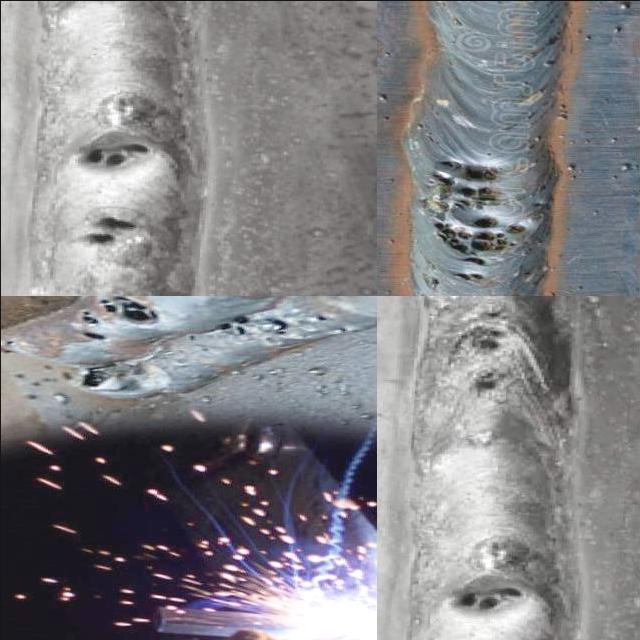defect: (65, 127, 172, 174), (431, 216, 528, 267), (72, 295, 161, 346), (64, 208, 155, 252), (430, 158, 501, 212), (444, 582, 534, 616), (76, 359, 150, 392), (465, 308, 511, 358), (461, 362, 509, 400), (212, 314, 253, 336), (262, 316, 296, 335), (451, 271, 484, 283), (2, 339, 21, 347), (183, 332, 198, 341), (193, 343, 211, 350), (312, 314, 329, 321), (337, 327, 347, 331)
